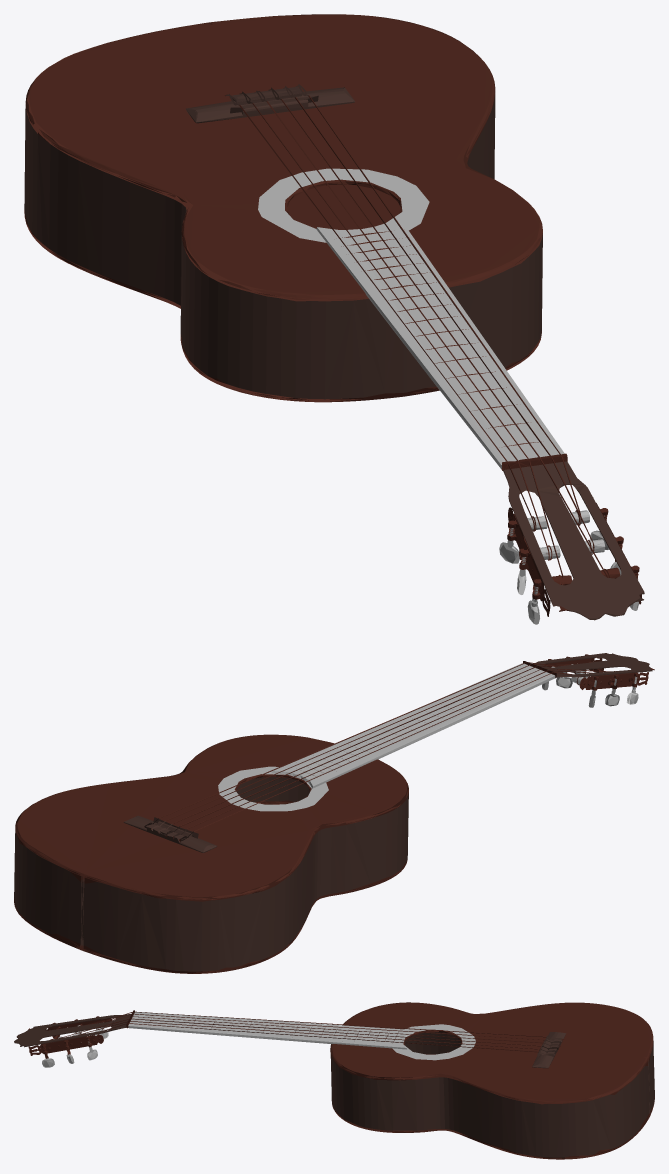
Rendered from Acoustic guitar.obj.
3 views of the same model, one above another, from view 1: azimuth 30°, elevation 25°; view 2: azimuth 150°, elevation 25°; view 3: azimuth 270°, elevation 25° (orthographic). The views are drawn at different scales.
Parts seen in each view (by area): view 1: objdefault001; view 2: objdefault001; view 3: objdefault001.
Part boxes in pixels (box(x1,y1,x2,y2)): objdefault001: box(24, 14, 644, 624); objdefault001: box(14, 653, 654, 973); objdefault001: box(14, 1002, 654, 1159).
Size of the model in its own units: 80201 by 21964 by 200941.
